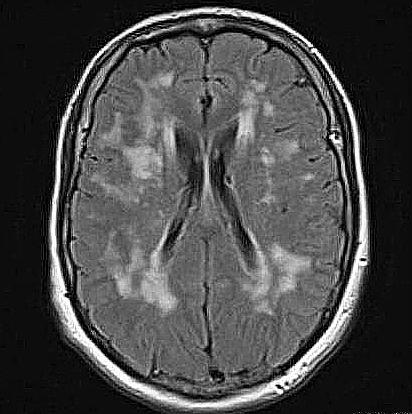Normal_Brain: (1, 1, 412, 414)
